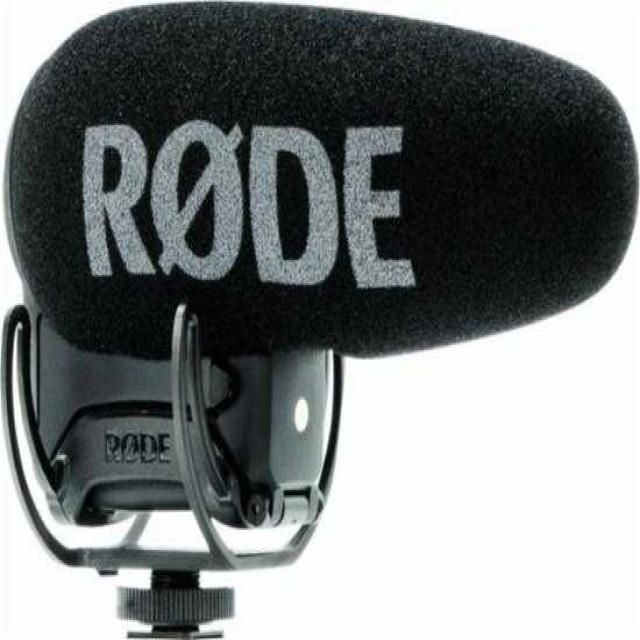microphone: (10, 5, 631, 348)
